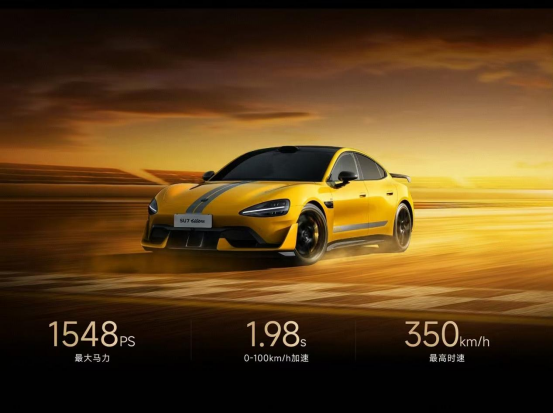su7: (141, 146, 424, 262)
